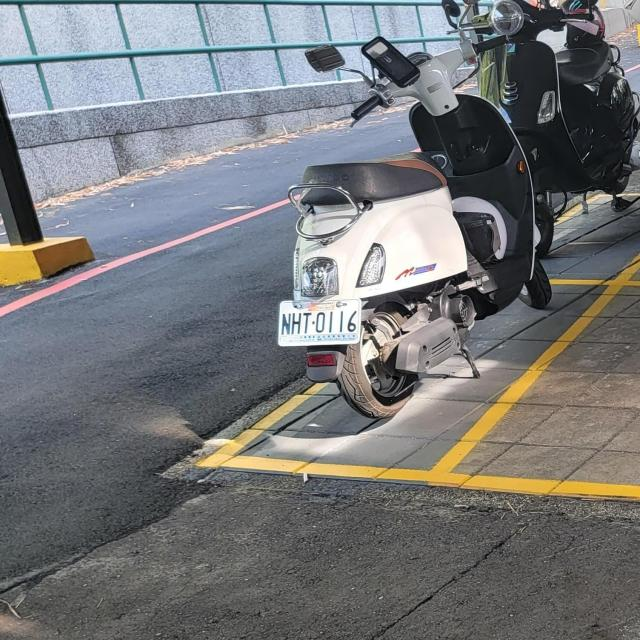W: (271, 293, 366, 350)
